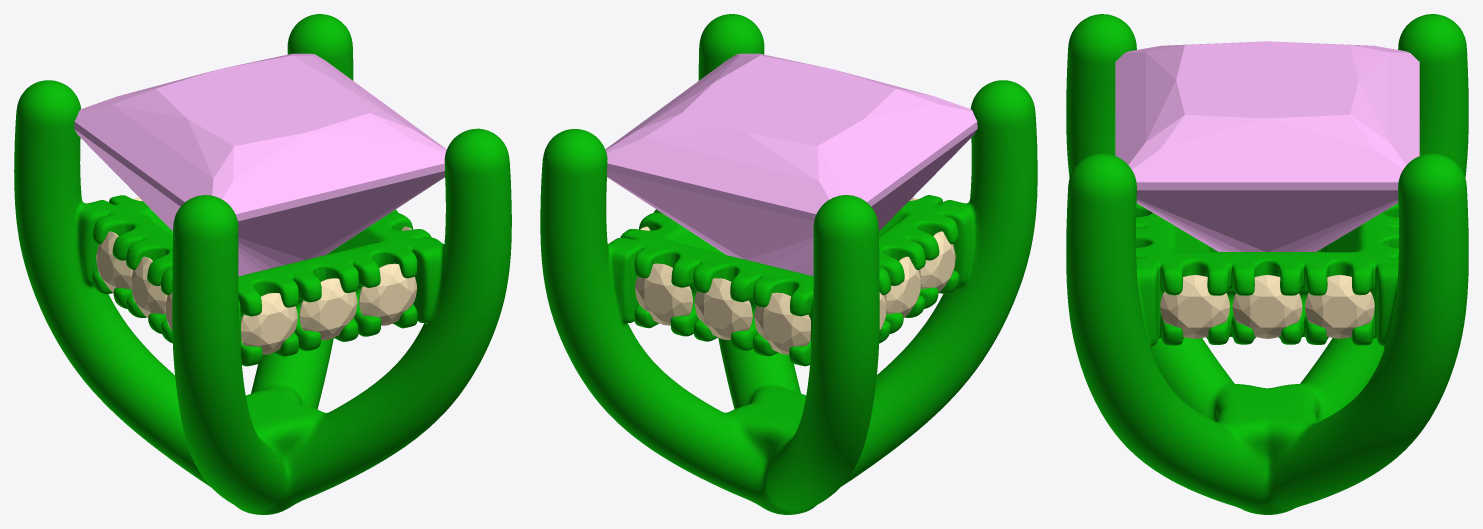
3 views of the same model, side by side, from view 1: azimuth 30°, elevation 25°; view 2: azimuth 150°, elevation 25°; view 3: azimuth 270°, elevation 25° (orthographic). The views are drawn at different scales.
Parts seen in each view (by area): view 1: Metal01, Diamond_Princess, Diamond_Round.007, Diamond_Round.006, Diamond_Round.008, Diamond_Round.004, Diamond_Round.003; view 2: Metal01, Diamond_Princess, Diamond_Round.011, Diamond_Round.010, Diamond_Round.009, Diamond_Round.004, Diamond_Round.005; view 3: Metal01, Diamond_Princess, Diamond_Round.001, Diamond_Round.002, Diamond_Round.
Part boxes in pixels (x1,y1,x2,y2): Metal01: (14, 14, 511, 514); Diamond_Princess: (74, 53, 446, 276); Diamond_Round.007: (299, 278, 357, 340); Diamond_Round.006: (359, 263, 416, 325); Diamond_Round.008: (241, 293, 297, 354); Diamond_Round.004: (130, 256, 167, 318); Diamond_Round.003: (96, 231, 132, 292); Metal01: (540, 14, 1037, 514); Diamond_Princess: (605, 53, 977, 276); Diamond_Round.011: (635, 263, 693, 325); Diamond_Round.010: (694, 278, 752, 339); Diamond_Round.009: (754, 292, 810, 354); Diamond_Round.004: (884, 256, 921, 317); Diamond_Round.005: (919, 231, 955, 292); Metal01: (1066, 14, 1468, 514); Diamond_Princess: (1115, 41, 1419, 251); Diamond_Round.001: (1232, 275, 1302, 338); Diamond_Round.002: (1305, 275, 1374, 338); Diamond_Round: (1160, 275, 1229, 338).
Bounding box in the file's own units: 5.77 × 6.76 × 5.78.
